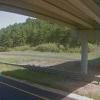Bridge: (14, 1, 99, 65)
